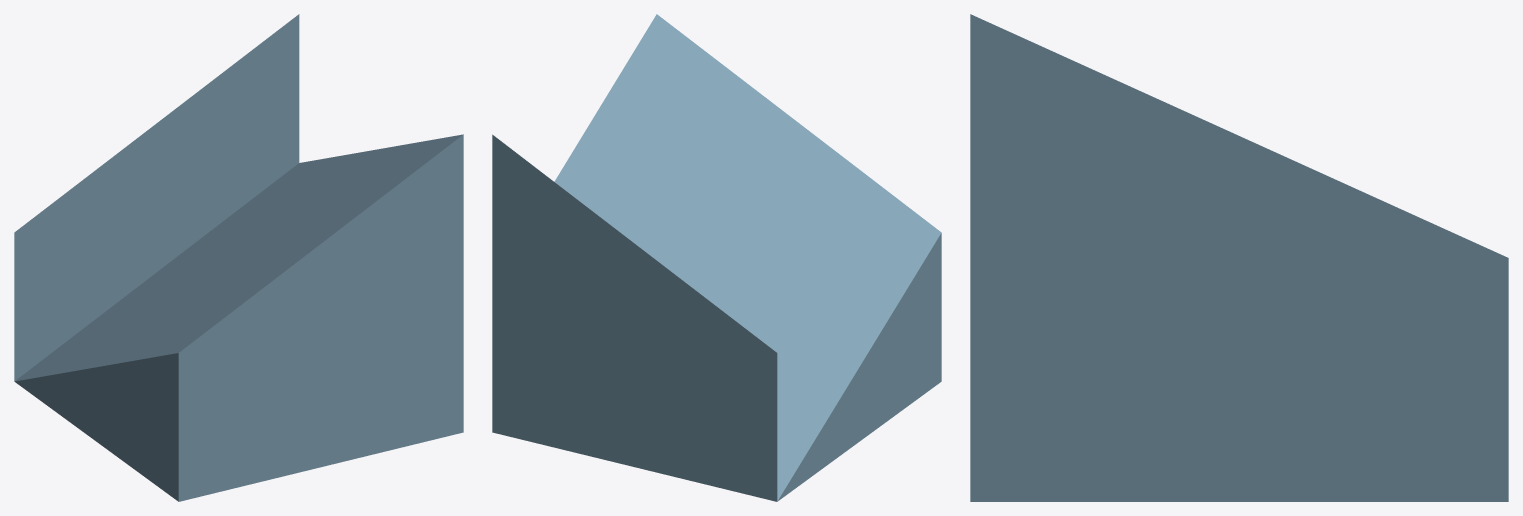
File: Conveyor_Corner.glb
3 views of the same model, side by side, from view 1: azimuth 30°, elevation 25°; view 2: azimuth 150°, elevation 25°; view 3: azimuth 270°, elevation 25° (orthographic). The views are drawn at different scales.
Visible parts, largest first — view 1: Conveyor_Corner_body; view 2: Conveyor_Corner_body; view 3: Conveyor_Corner_body.
Part boxes in pixels (box(x1,y1,x2,y2)): Conveyor_Corner_body: box(14, 14, 463, 501); Conveyor_Corner_body: box(492, 14, 941, 501); Conveyor_Corner_body: box(970, 14, 1508, 501).
Size of the model in its own units: 1 by 1 by 1.
